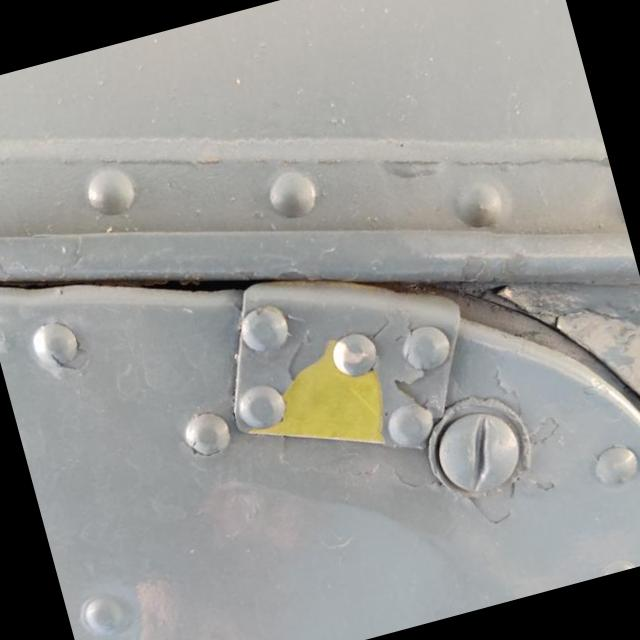Paint-off: (249, 340, 384, 444)
